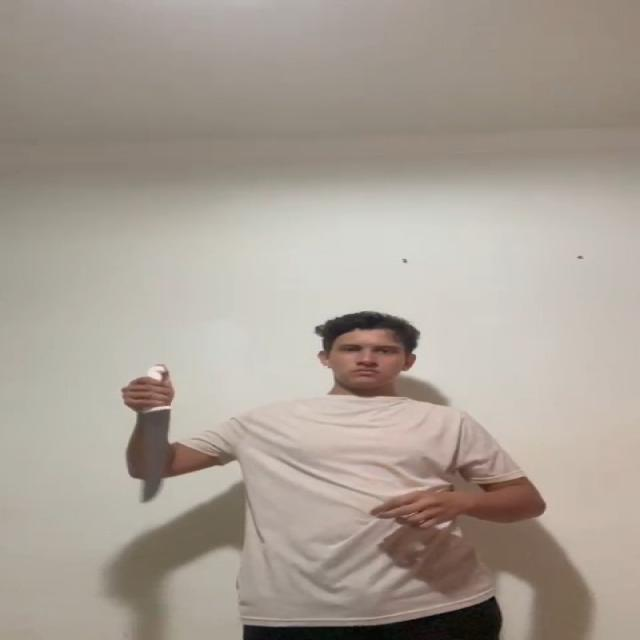knife: (140, 406, 174, 497)
